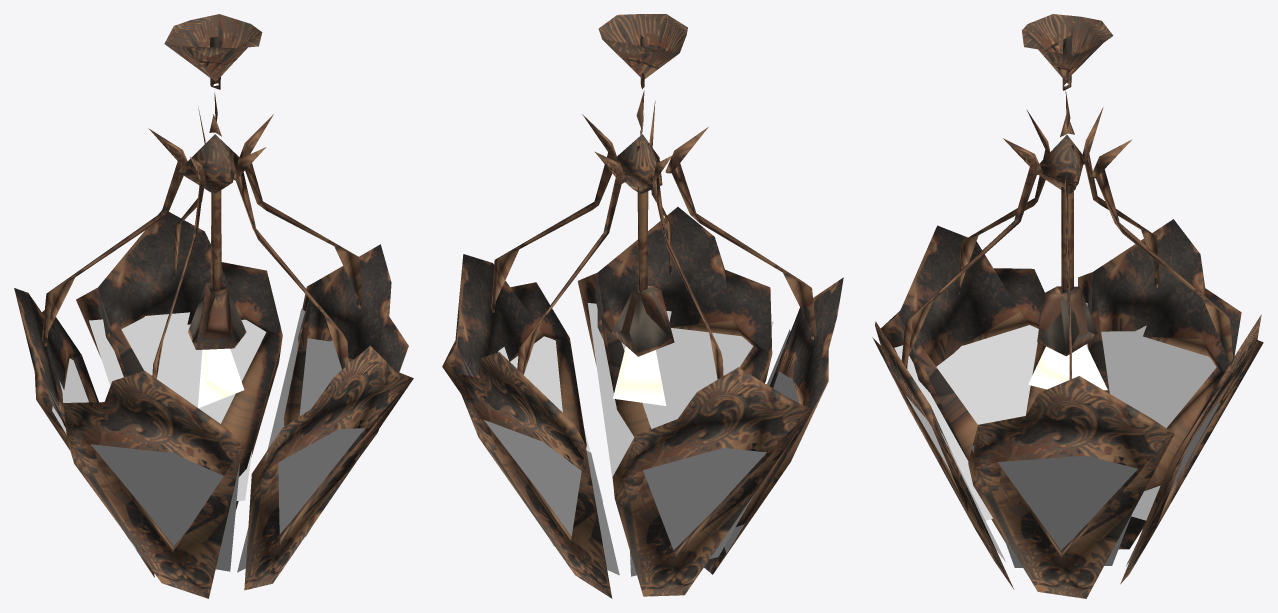
File: LanternChandelierLOD2.fbx
3 renders of one model, left to right at view 1: azimuth 30°, elevation 25°; view 2: azimuth 150°, elevation 25°; view 3: azimuth 270°, elevation 25°, orthographic.
Visible parts, largest first — view 1: lantern_chandelier_01; view 2: lantern_chandelier_01; view 3: lantern_chandelier_01.
Boxes of the visible parts, box(x1,y1,x2,y2) form: lantern_chandelier_01: box(14, 14, 413, 598); lantern_chandelier_01: box(442, 14, 843, 598); lantern_chandelier_01: box(872, 14, 1263, 598).
Bounding box in the file's own units: 56.71 × 84.89 × 55.4.
